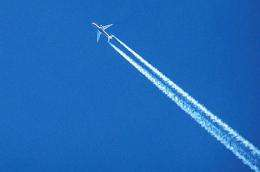plane: (91, 21, 118, 46)
